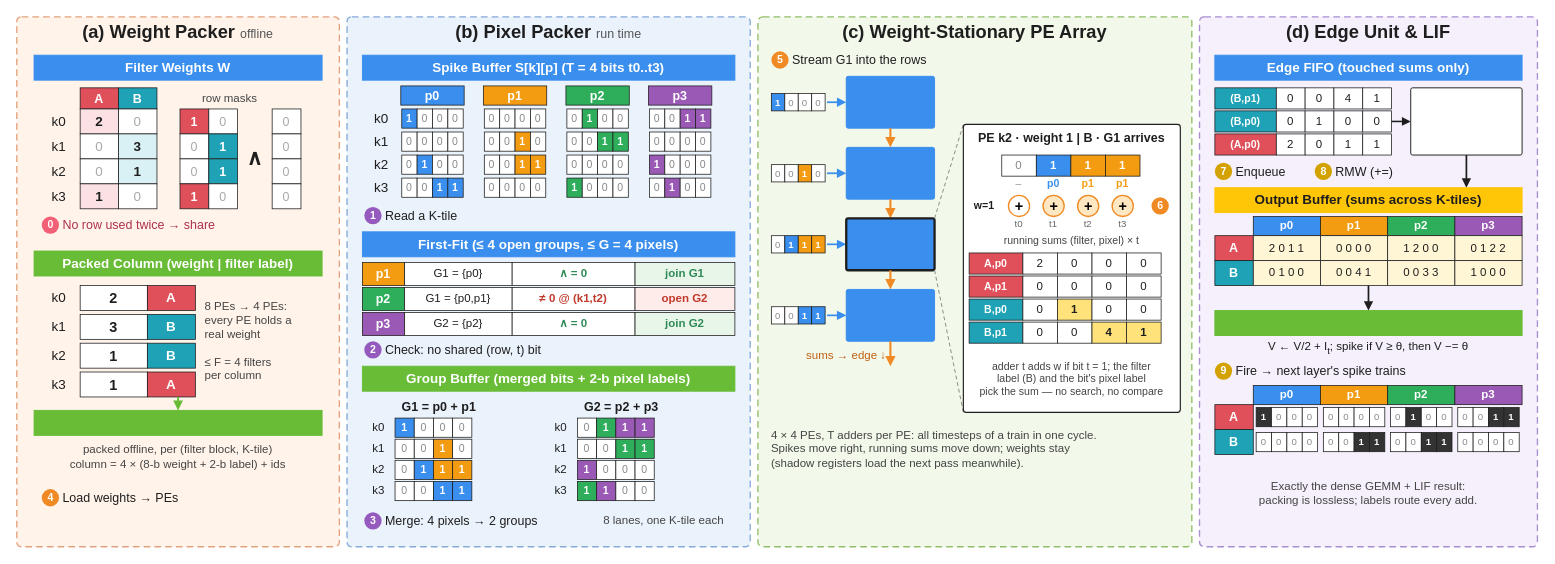
Some shapes in this 1555 by 564 pixel diagram are drawn without their labels. The shapes that lost their labels are listed below. From the top down, each one's centre as x and y in pixels, then its label:
At point 890,101: "PE k0 2 | A".
At point 1466,121: "Addr (filter, pixel) 4 RMW / col".
At point 890,172: "PE k1 3 | B".
At point 890,244: "PE k2 1 | B".
At point 890,314: "PE k3 1 | A".
At point 1368,323: "LIF Units ×16 (after the last K-tile)".
At point 177,422: "Weight Memory".
